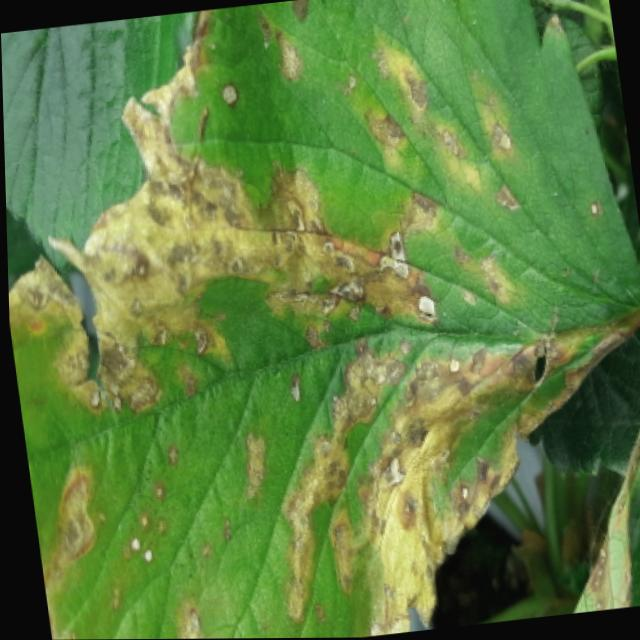Angular Leafspot: (7, 0, 640, 640), (568, 411, 640, 614)
